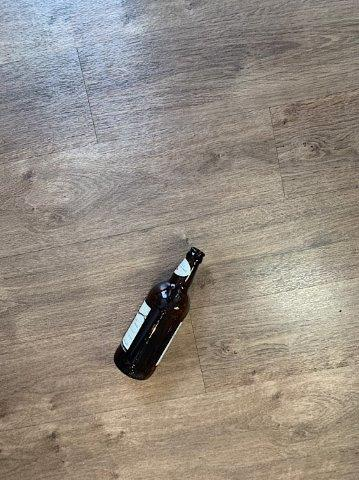botolkaca: (115, 249, 204, 380)
